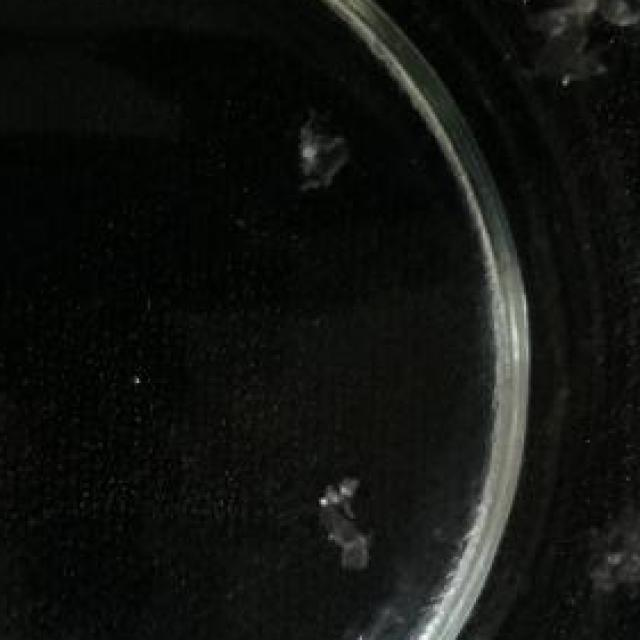Microplastic: (473, 0, 640, 112), (578, 490, 640, 640), (305, 476, 378, 592), (276, 126, 371, 202)
